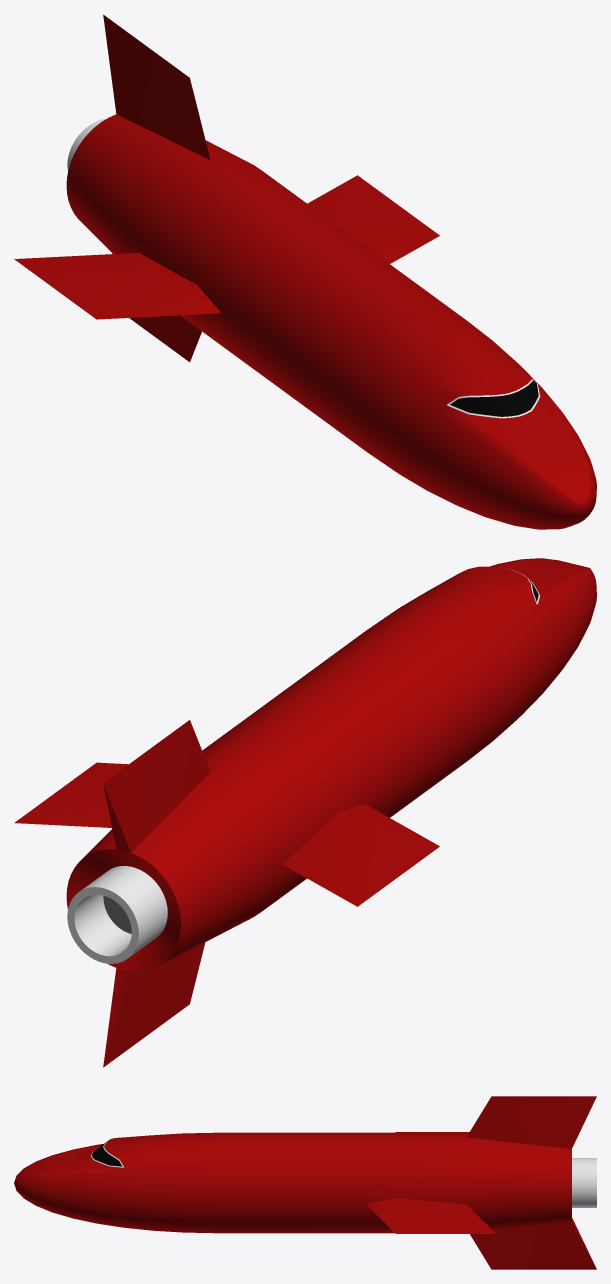
Rendered from enemySuicider.fbx.
3 views of the same model, one above another, from view 1: azimuth 30°, elevation 25°; view 2: azimuth 150°, elevation 25°; view 3: azimuth 270°, elevation 25° (orthographic). The views are drawn at different scales.
Visible parts, largest first — view 1: enemySuicider; view 2: enemySuicider; view 3: enemySuicider.
Boxes of the visible parts, x1,y1,x2,y2 form: enemySuicider: (14,14,596,529); enemySuicider: (14,558,596,1067); enemySuicider: (14,1096,596,1269).
Size of the model in its own units: 480 by 380 by 1160.
